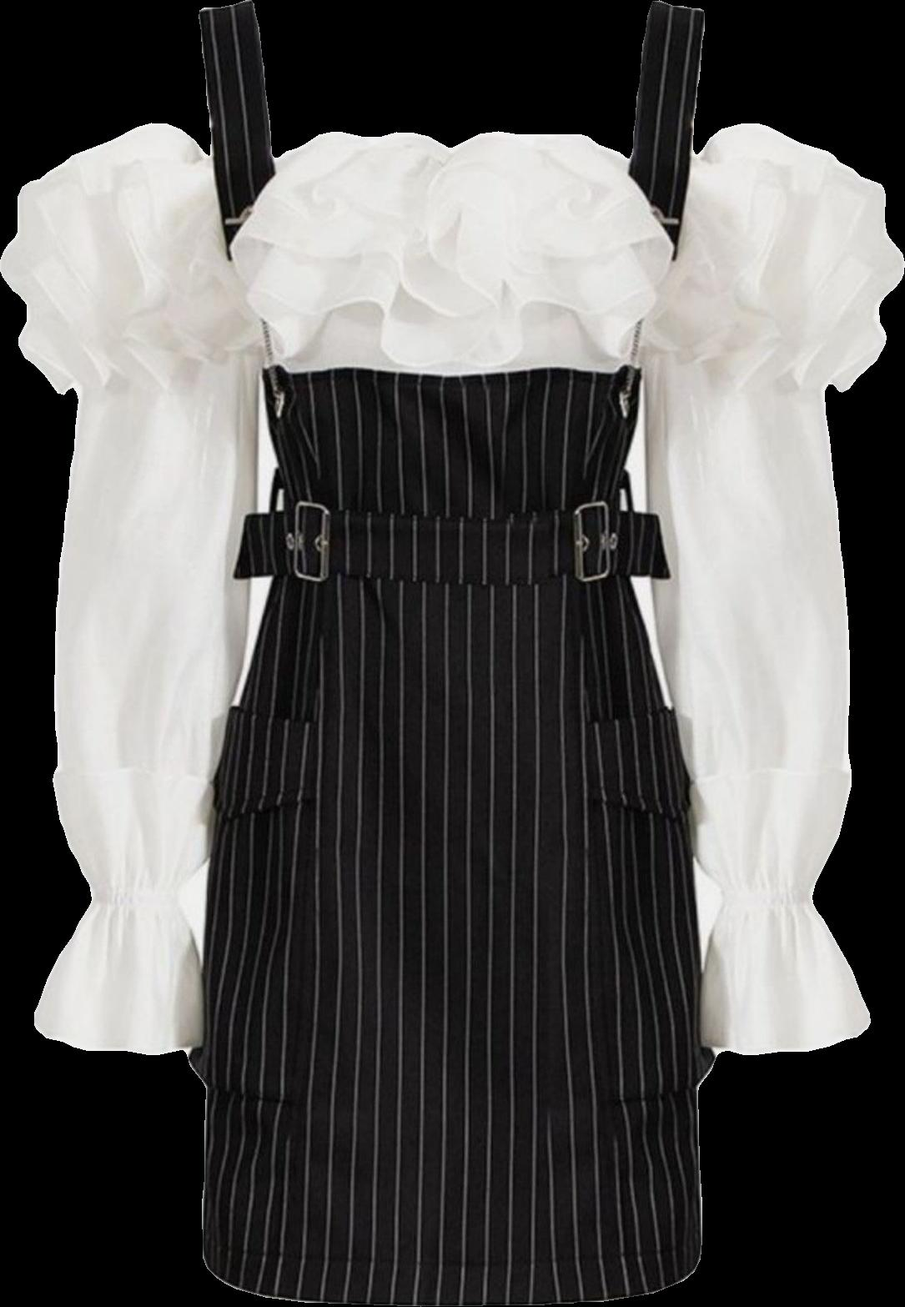Bodice: (199, 0, 703, 583)
Hemline: (199, 1252, 710, 1306)
Neckline: (246, 0, 666, 172), (255, 358, 656, 381)
Skirt: (202, 575, 703, 1306)
Sleeve: (641, 123, 904, 1058), (0, 123, 261, 1054)
Sleeveline: (203, 153, 265, 372), (647, 153, 706, 379), (74, 366, 265, 399), (647, 373, 826, 399), (711, 886, 815, 908), (89, 886, 191, 908)
Waistline: (244, 258, 662, 372), (224, 199, 675, 268), (273, 565, 636, 592)
